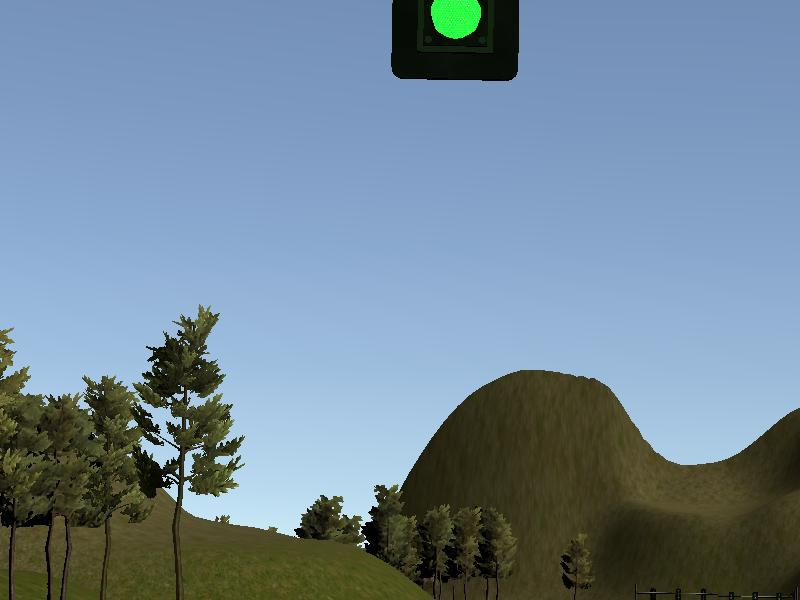green_light: (397, 2, 518, 80)
